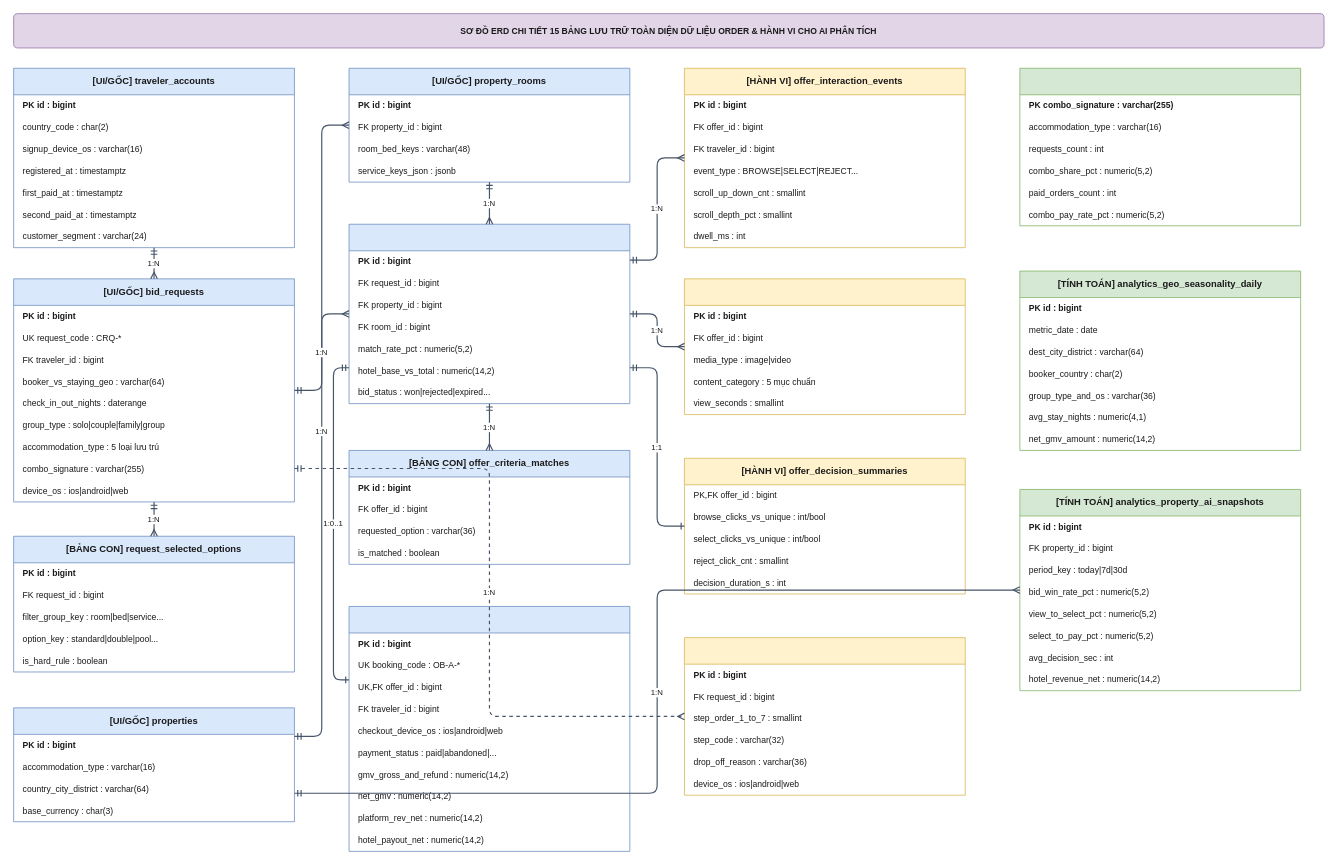
Image size: 1338x865. Some labels were removed from this diagram. Each missing label, with the box of its shape:
[HÀNH VI] booking_funnel_events: (684, 637, 965, 795)
[HÀNH VI] offer_media_interactions: (684, 278, 965, 415)
[TÍNH TOÁN] analytics_preference_combos: (1019, 67, 1301, 226)
[UI/GỐC] bid_offers: (348, 223, 630, 404)
[UI/GỐC] orders_and_payments: (348, 606, 630, 851)
